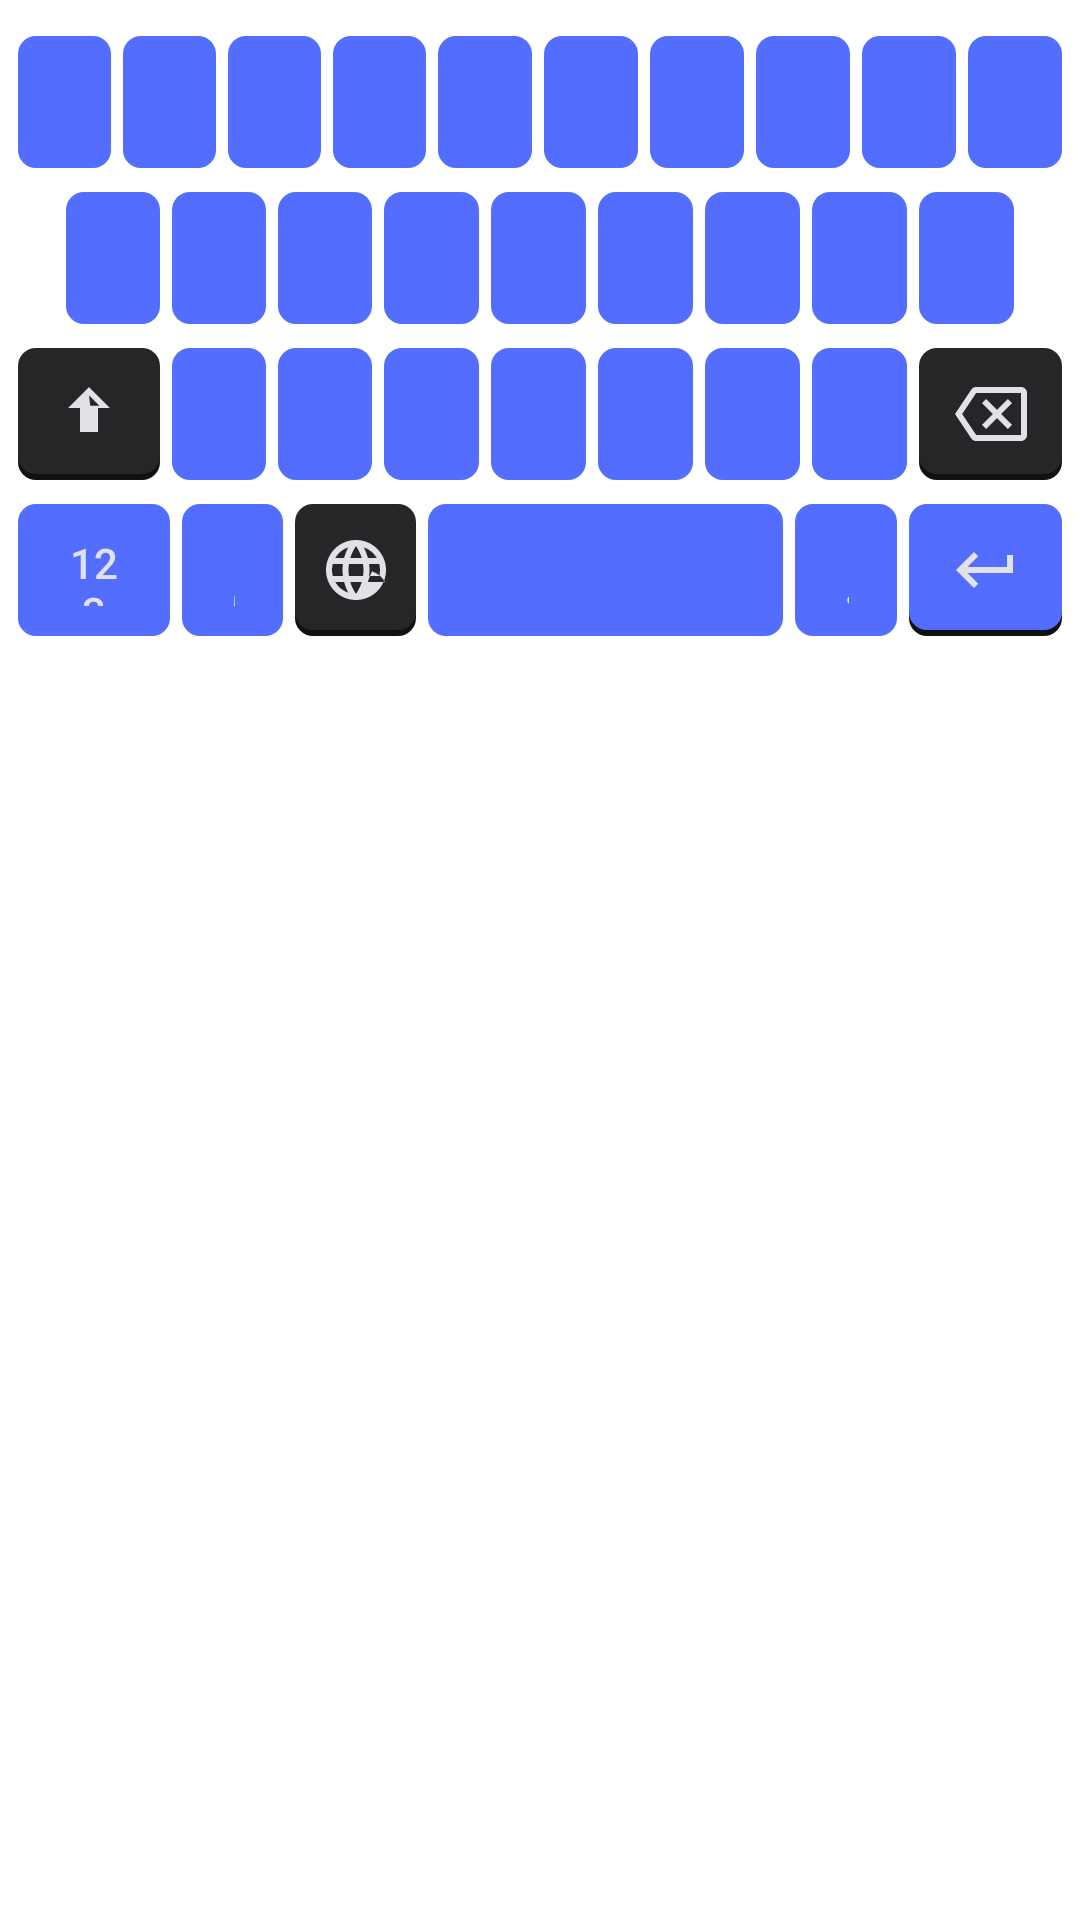

Screen size 1080 x 1920. Icon name, then its center in pixels as point (x, y):
enter: point (985, 570)
globe: point (355, 570)
shift: point (89, 414)
